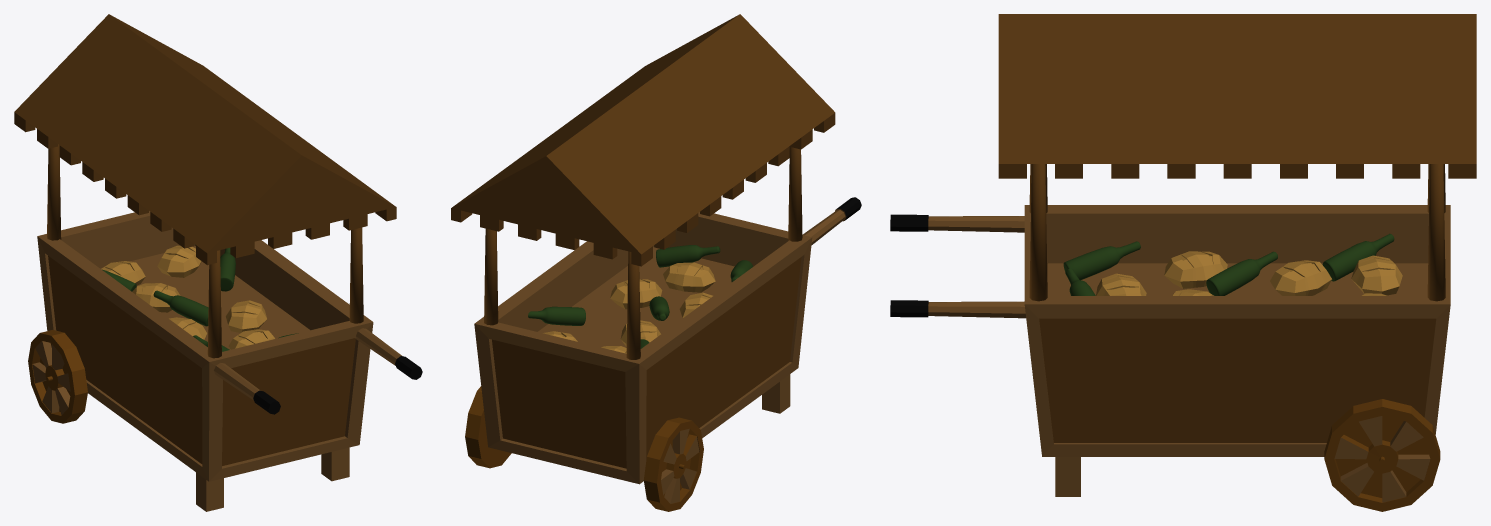
File: carroventa.fbx
The picture shows the model from 3 angles, left to right: view 1: azimuth 30°, elevation 25°; view 2: azimuth 150°, elevation 25°; view 3: azimuth 270°, elevation 25°; orthographic projection. The views are drawn at different scales.
Parts seen in each view (by area): view 1: Cube; view 2: Cube; view 3: Cube.
Part boxes in pixels (x1,y1,x2,y2): Cube: (14, 14, 422, 511); Cube: (451, 14, 861, 511); Cube: (890, 14, 1476, 511).
Size of the model in its own units: 75.51 by 129 by 156.
